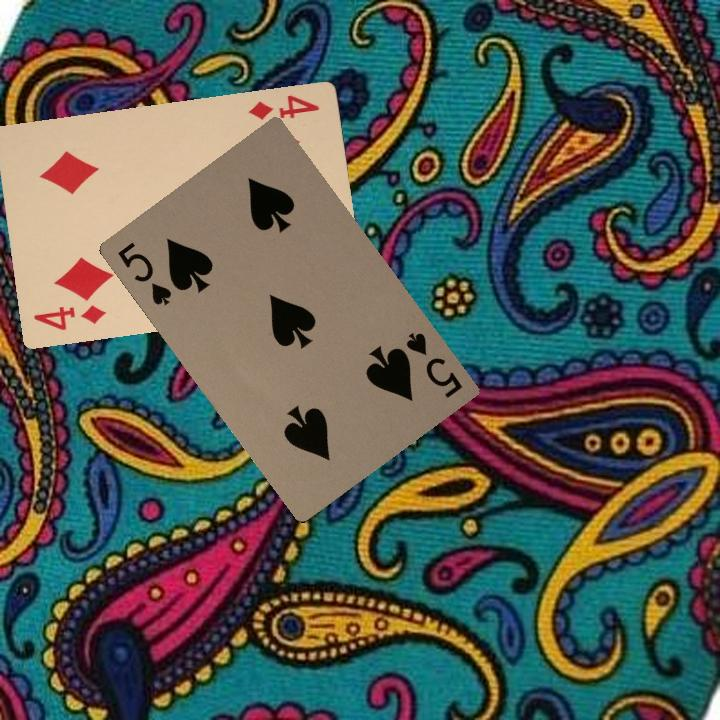4d: (29, 300, 108, 333), (245, 91, 321, 123)
5s: (401, 328, 465, 401), (113, 238, 175, 308)
